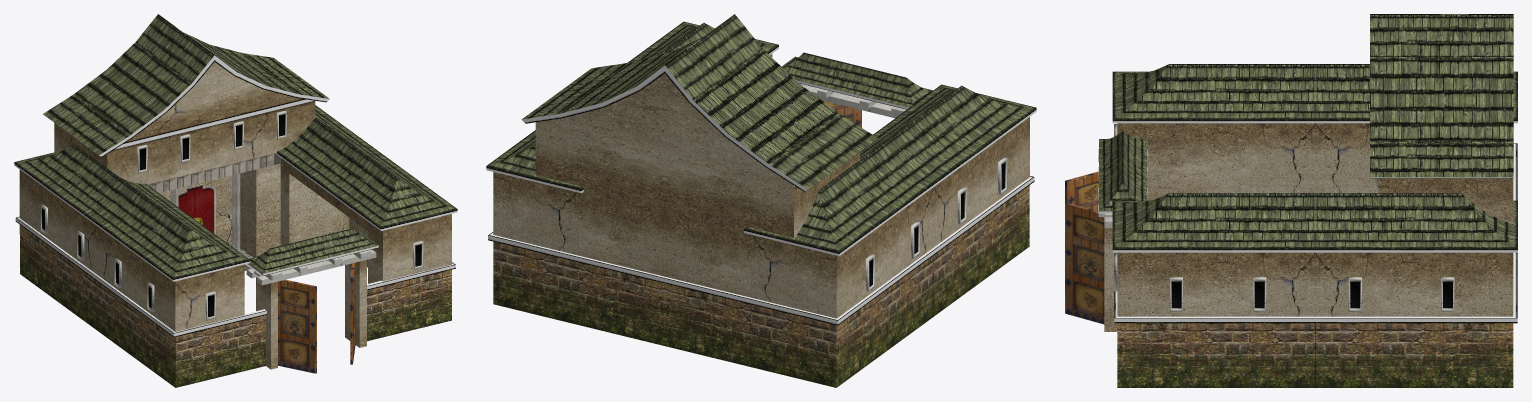
File: chin_barracks.dae
The picture shows the model from 3 angles, left to right: view 1: azimuth 30°, elevation 25°; view 2: azimuth 150°, elevation 25°; view 3: azimuth 270°, elevation 25°; orthographic projection. The views are drawn at different scales.
Visible parts, largest first — view 1: Cube_001; view 2: Cube_001; view 3: Cube_001.
Part boxes in pixels (box(x1,y1,x2,y2)): Cube_001: box(14, 14, 457, 387); Cube_001: box(486, 14, 1036, 387); Cube_001: box(1065, 14, 1517, 387).
Bounding box in the file's own units: 18.31 × 19.83 × 13.92.
